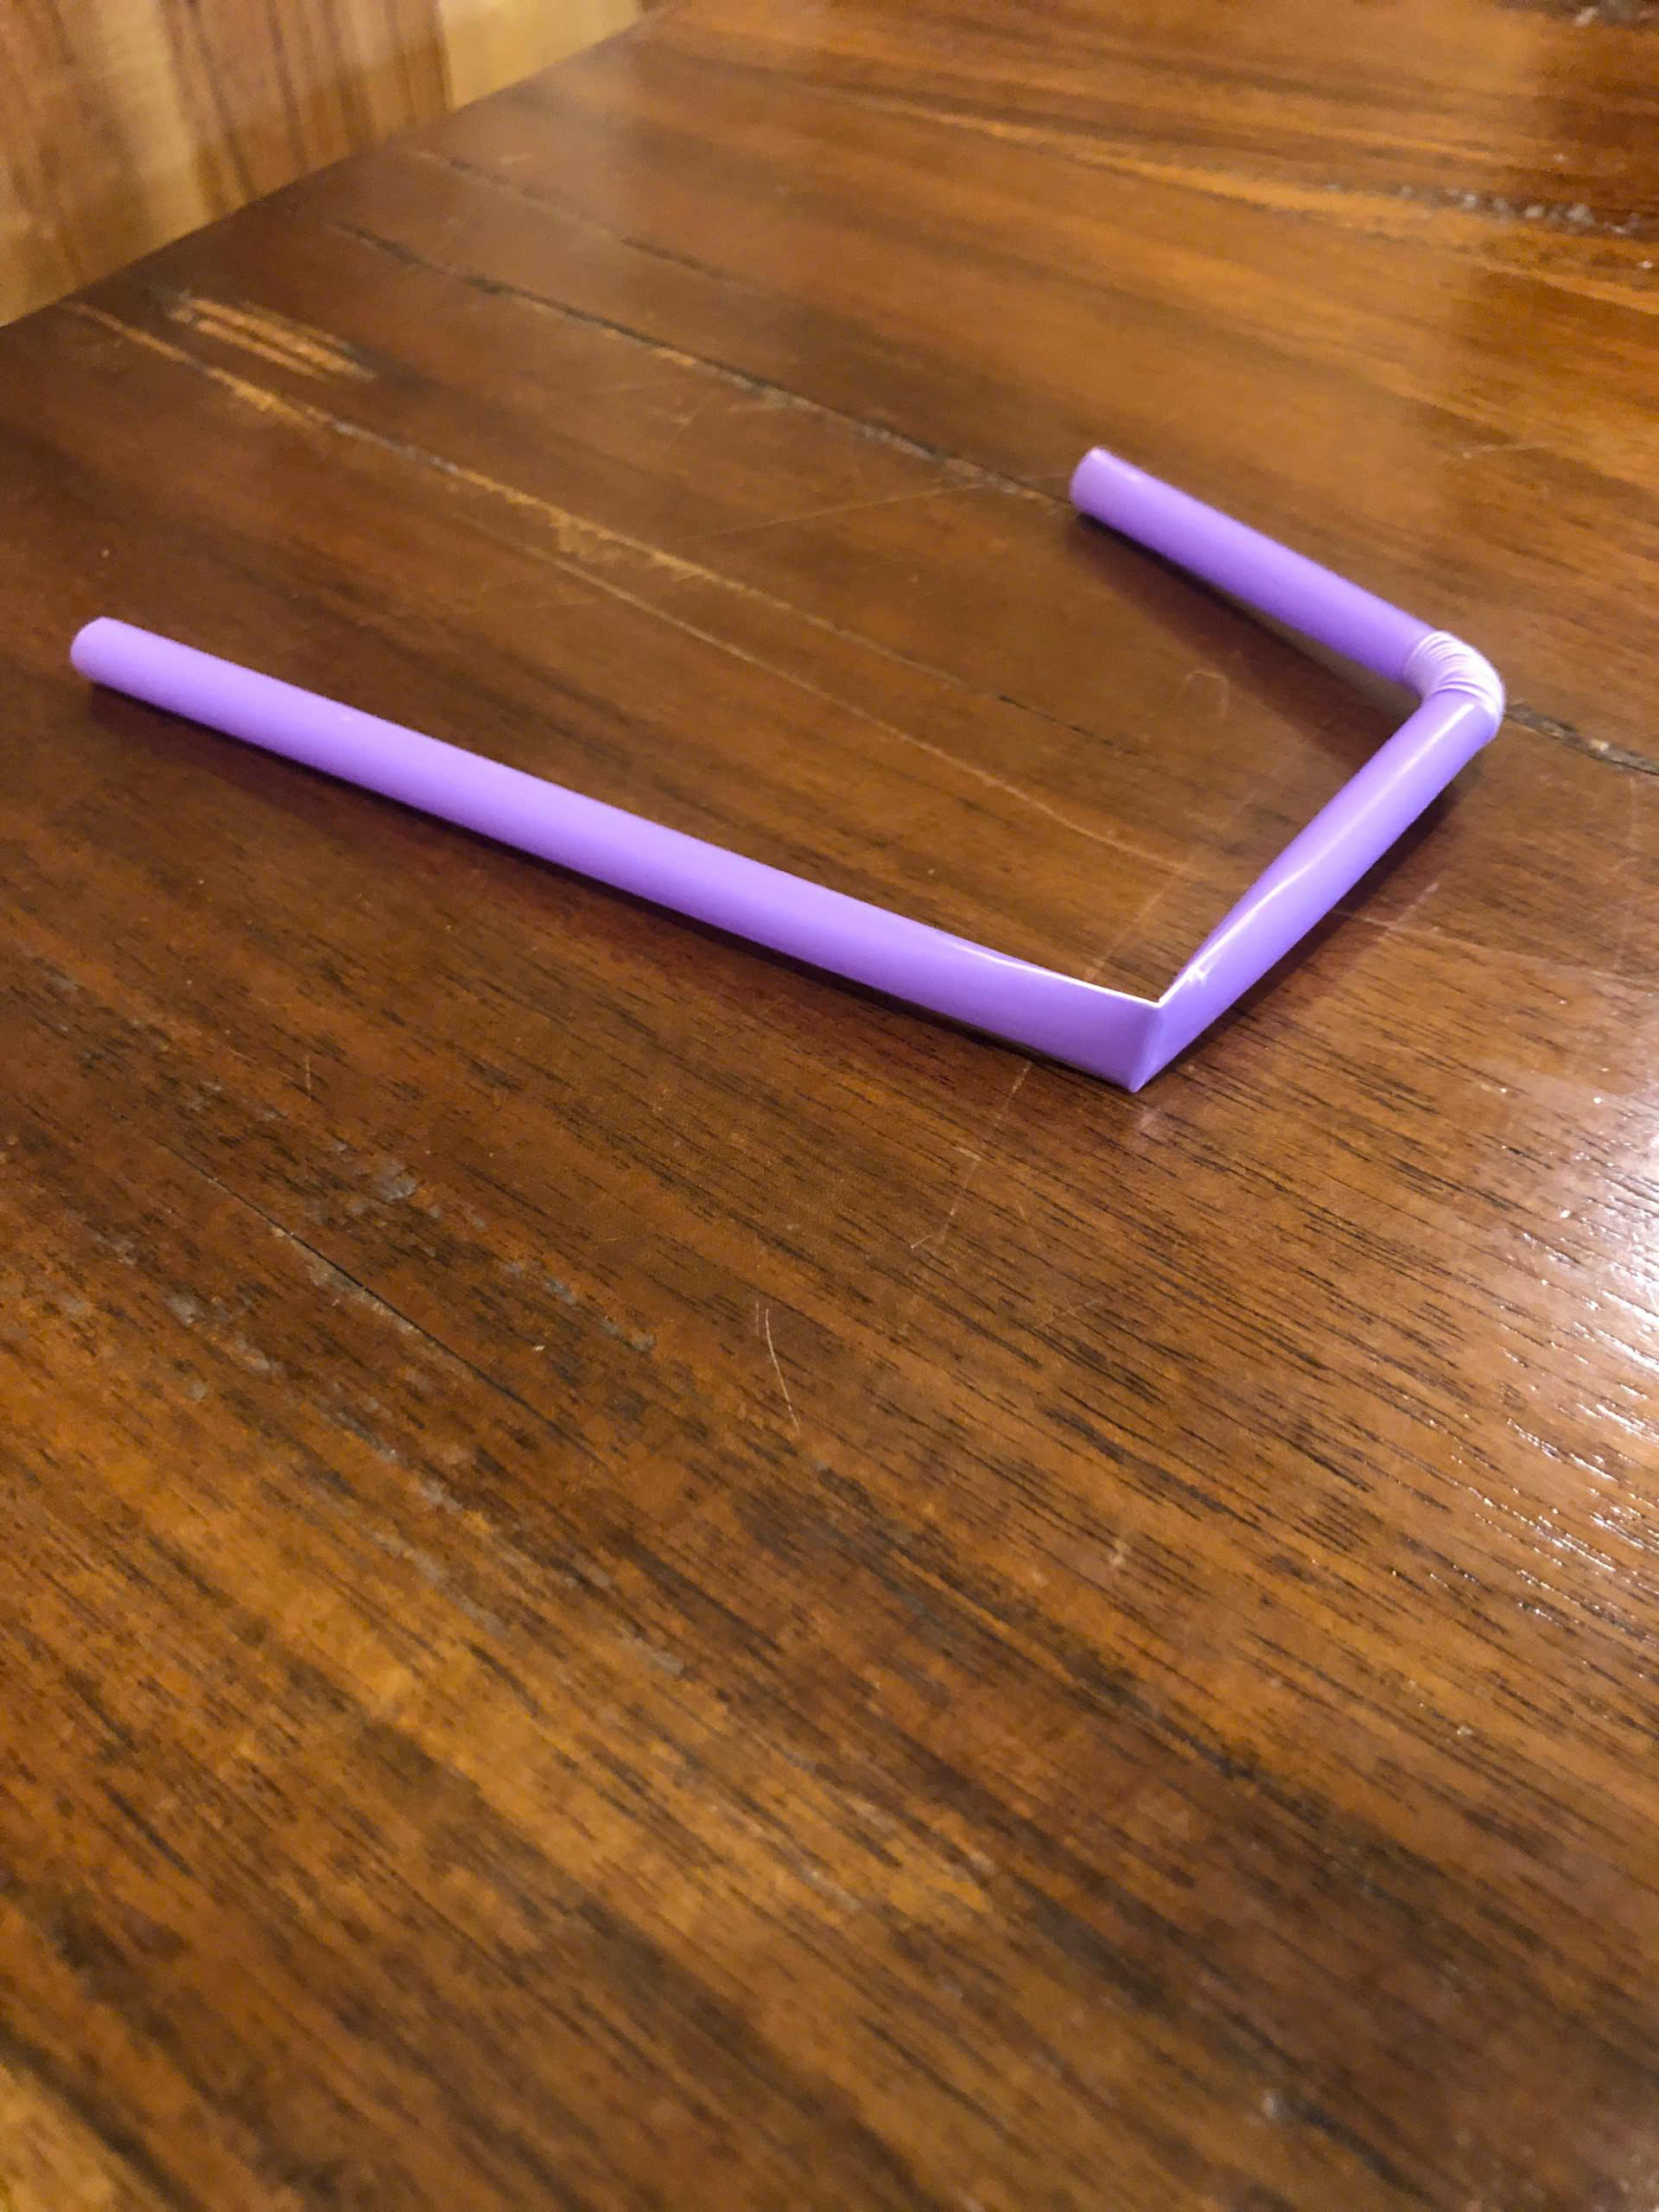Vo co: (64, 446, 1507, 1087)
